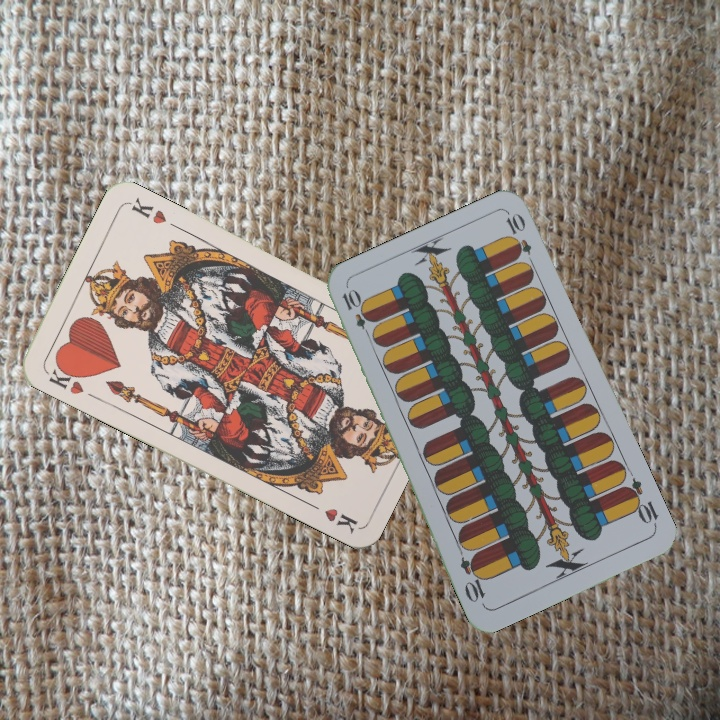E10: (619, 474, 661, 530), (338, 285, 376, 342)
HK: (42, 359, 87, 397)
